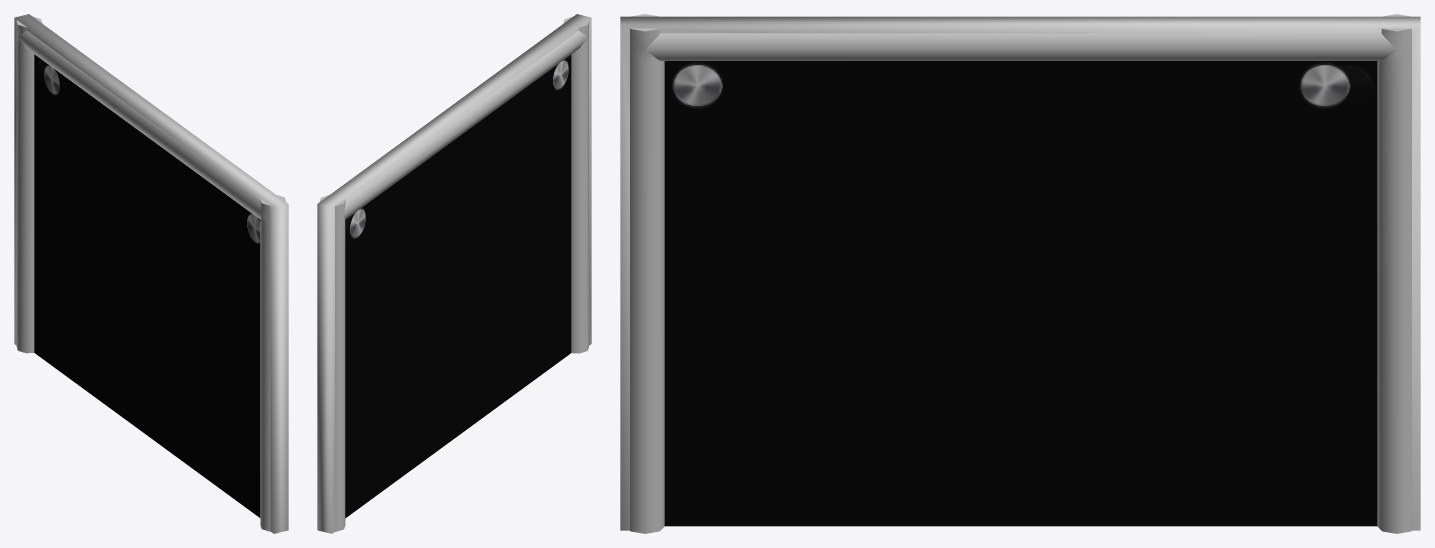
File: Barricade_Bars_C.fbx
The picture shows the model from 3 angles, left to right: view 1: azimuth 30°, elevation 25°; view 2: azimuth 150°, elevation 25°; view 3: azimuth 270°, elevation 25°; orthographic projection. The views are drawn at different scales.
Visible parts, largest first — view 1: Barricade_Bars_C_L0, Barricade_Bars_C; view 2: Barricade_Bars_C_L0, Barricade_Bars_C; view 3: Barricade_Bars_C, Barricade_Bars_C_L0.
Part boxes in pixels (x1,y1,x2,y2): Barricade_Bars_C_L0: [14, 14, 288, 533]; Barricade_Bars_C: [16, 16, 285, 531]; Barricade_Bars_C_L0: [317, 14, 591, 533]; Barricade_Bars_C: [319, 16, 588, 531]; Barricade_Bars_C: [630, 14, 1411, 533]; Barricade_Bars_C_L0: [620, 16, 1420, 530].
Size of the model in its own units: 0.22 by 2.96 by 4.26.
